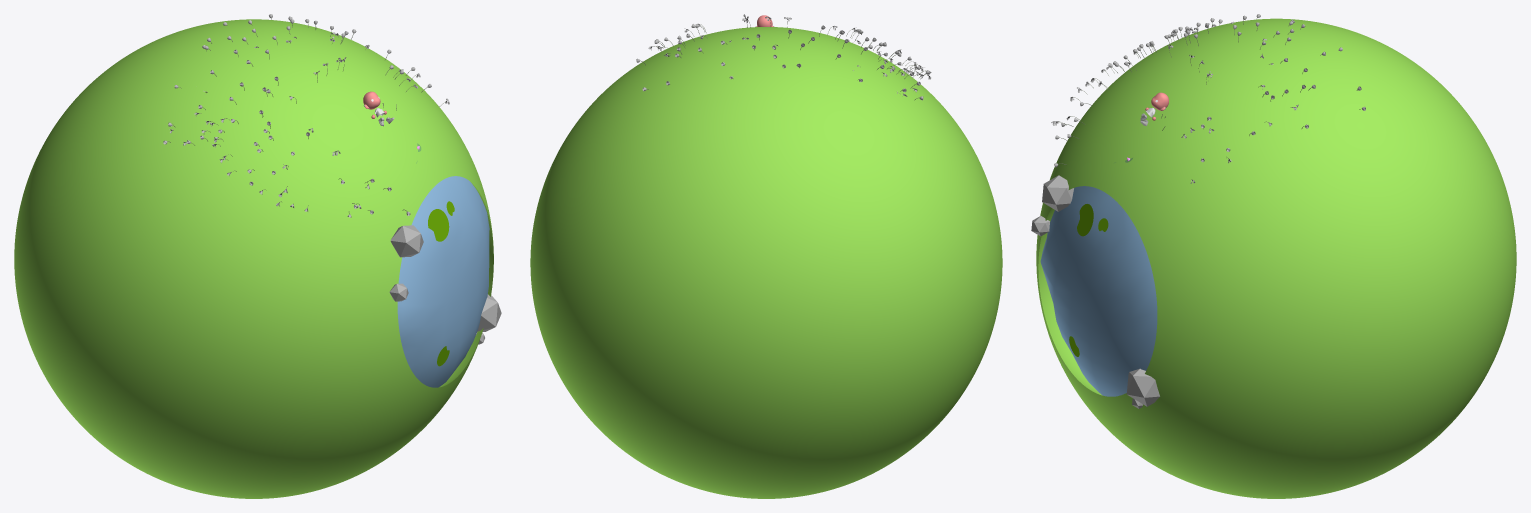
File: planetforblender.fbx
3 renders of one model, left to right at view 1: azimuth 30°, elevation 25°; view 2: azimuth 150°, elevation 25°; view 3: azimuth 270°, elevation 25°, orthographic.
Parts seen in each view (by area): view 1: polySurface73, pSphere41, tulip2Flower, pPlatonic1, irisBlue2Flower, pPlatonic4; view 2: polySurface73, tulip2Flower, irisBlue2Flower; view 3: polySurface73, pSphere41, tulip2Flower, pPlatonic4, pPlatonic1, irisBlue2Flower.
Boxes of the visible parts, left/top/right/bottom form: polySurface73: left=14, top=19, right=493, bottom=498; pSphere41: left=397, top=176, right=489, bottom=387; tulip2Flower: left=163, top=14, right=431, bottom=215; pPlatonic1: left=390, top=225, right=423, bottom=257; irisBlue2Flower: left=169, top=32, right=449, bottom=217; pPlatonic4: left=477, top=294, right=501, bottom=331; polySurface73: left=530, top=27, right=1002, bottom=498; tulip2Flower: left=636, top=24, right=929, bottom=100; irisBlue2Flower: left=648, top=14, right=931, bottom=96; polySurface73: left=1036, top=18, right=1516, bottom=498; pSphere41: left=1040, top=186, right=1157, bottom=396; tulip2Flower: left=1054, top=14, right=1365, bottom=167; pPlatonic4: left=1126, top=368, right=1159, bottom=406; pPlatonic1: left=1042, top=175, right=1073, bottom=211; irisBlue2Flower: left=1051, top=21, right=1298, bottom=183.
Bounding box in the file's own units: 3.26 × 3.31 × 3.29.
